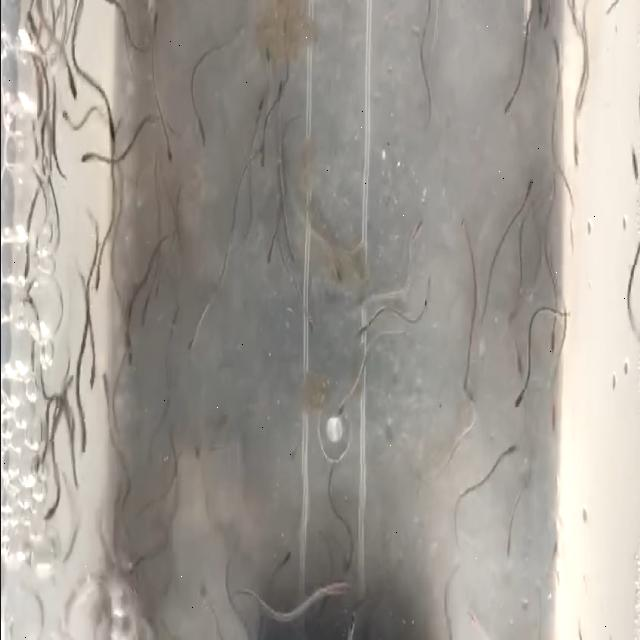active_glass_eel: (499, 90, 518, 122), (192, 116, 208, 154), (92, 256, 106, 299), (566, 129, 578, 177), (515, 180, 533, 212), (298, 306, 316, 338), (512, 379, 527, 416), (256, 142, 270, 180), (548, 399, 558, 452), (352, 314, 368, 346), (189, 444, 205, 476), (538, 1, 551, 40), (550, 30, 561, 72), (20, 253, 34, 286), (340, 543, 352, 581), (500, 436, 516, 464), (198, 578, 212, 610), (78, 148, 98, 170), (152, 278, 163, 318), (630, 140, 640, 183), (545, 327, 557, 362), (335, 390, 349, 420), (261, 242, 275, 272), (100, 368, 114, 398), (283, 244, 297, 273), (260, 46, 274, 74), (125, 338, 136, 371), (410, 221, 424, 246), (186, 336, 200, 361), (458, 368, 470, 396), (66, 76, 80, 100), (150, 11, 160, 44), (138, 306, 150, 330), (79, 426, 88, 458), (254, 94, 264, 122), (463, 394, 475, 416), (62, 108, 74, 130), (331, 264, 345, 282), (164, 137, 172, 165), (280, 548, 290, 569)
